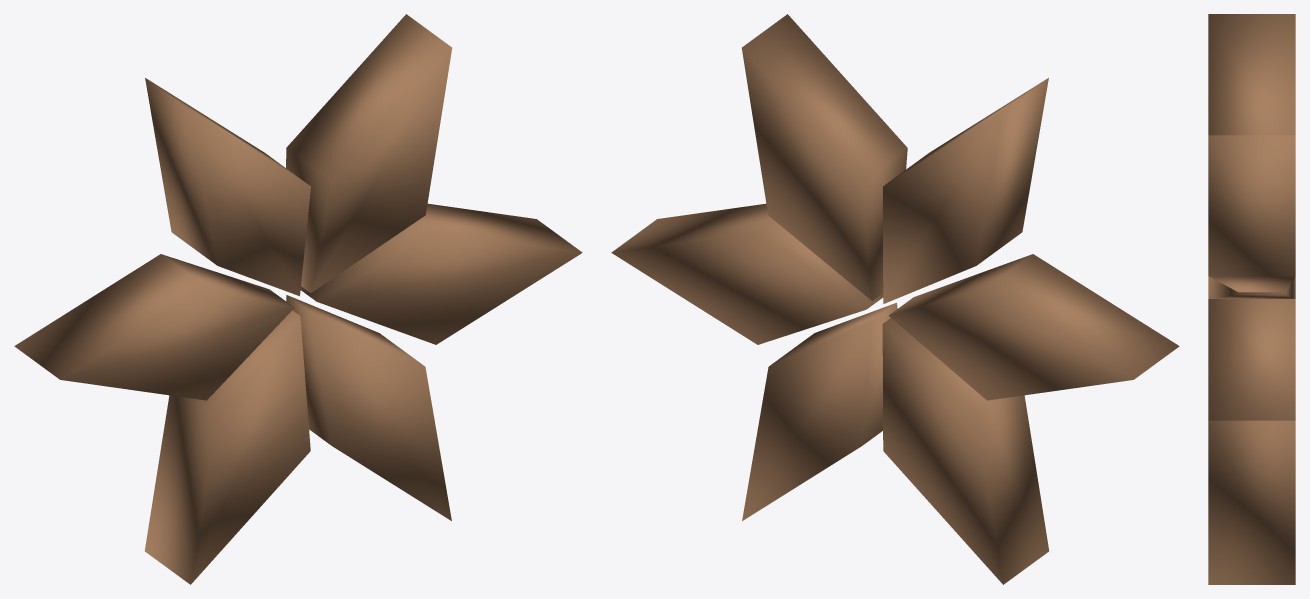
Rendered from star1.glb.
3 renders of one model, left to right at view 1: azimuth 30°, elevation 25°; view 2: azimuth 150°, elevation 25°; view 3: azimuth 270°, elevation 25°, orthographic. The views are drawn at different scales.
Parts seen in each view (by area): view 1: Circle.005; view 2: Circle.005; view 3: Circle.005.
Part boxes in pixels (x1=…): Circle.005: x1=14, y1=14, x2=582, y2=584; Circle.005: x1=611, y1=14, x2=1179, y2=584; Circle.005: x1=1208, y1=14, x2=1295, y2=584.
Bounding box in the file's own units: 0.0815 × 0.0706 × 0.0124.
